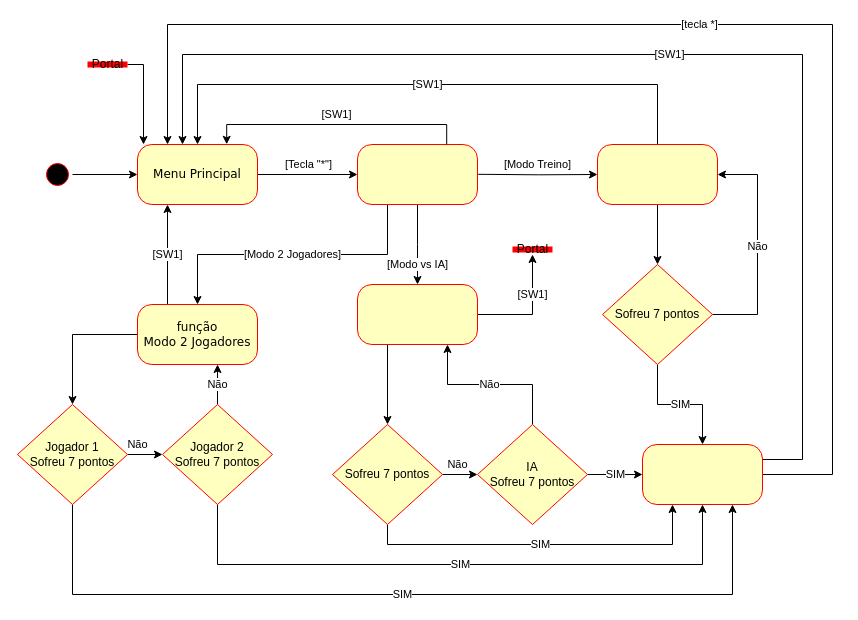
This 858x620 diagram has some shape labels left out. The centre of each missing label's shape, as x and y in pixels:
"Fim de Jogo / Treino Exibe Vencedor Pressione *" goes at (x=702, y=474).
"função Modo Treino" goes at (x=657, y=174).
"função Modo Vs IA" goes at (x=417, y=314).
"Seleção de Modo de Jogo" goes at (x=417, y=174).
